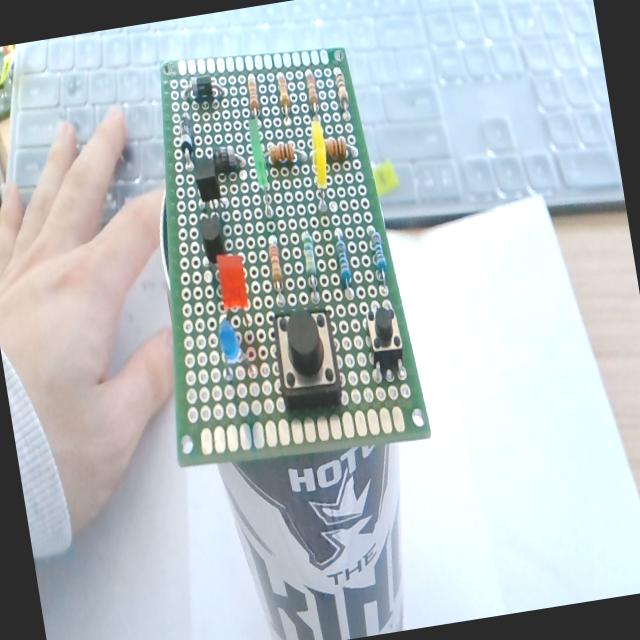diode: (176, 70, 232, 112), (170, 101, 197, 172)
led: (301, 115, 341, 219), (212, 250, 258, 332), (213, 317, 261, 394), (244, 114, 277, 223)
resistor: (330, 216, 360, 308), (364, 216, 396, 302), (298, 216, 324, 307), (328, 55, 358, 128), (262, 224, 288, 308), (270, 54, 297, 130), (264, 132, 310, 174), (298, 61, 324, 120), (242, 60, 265, 124)
switch: (264, 301, 355, 431), (362, 299, 417, 399)
transistor: (186, 152, 232, 218)
